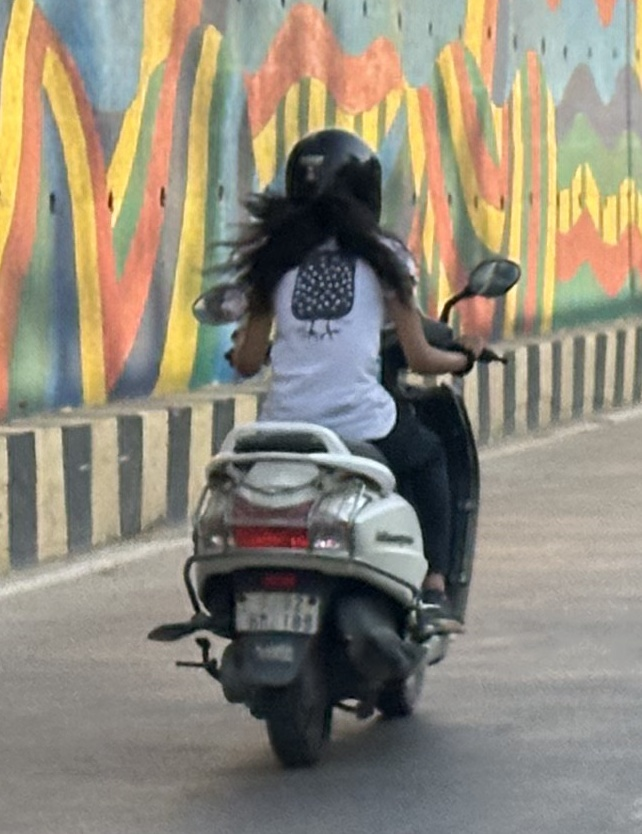BikeWithRider: (134, 115, 531, 779)
Helmet: (272, 118, 394, 237)
